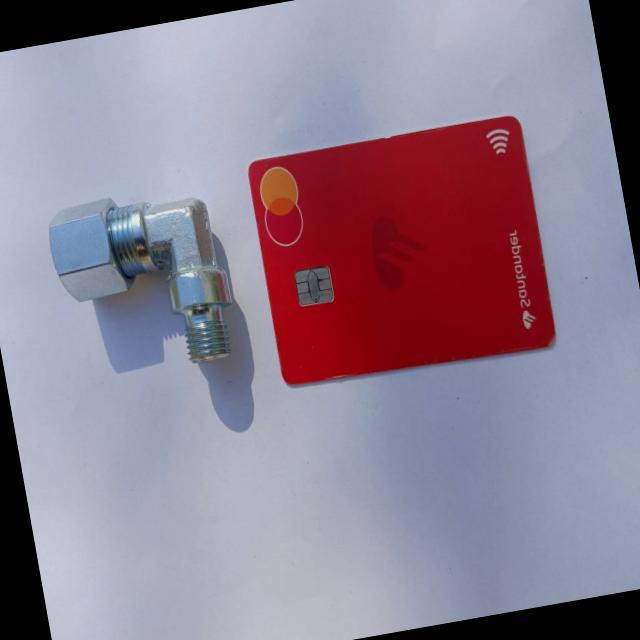cartao: (244, 114, 558, 392)
rosca_externa: (40, 178, 242, 386)
